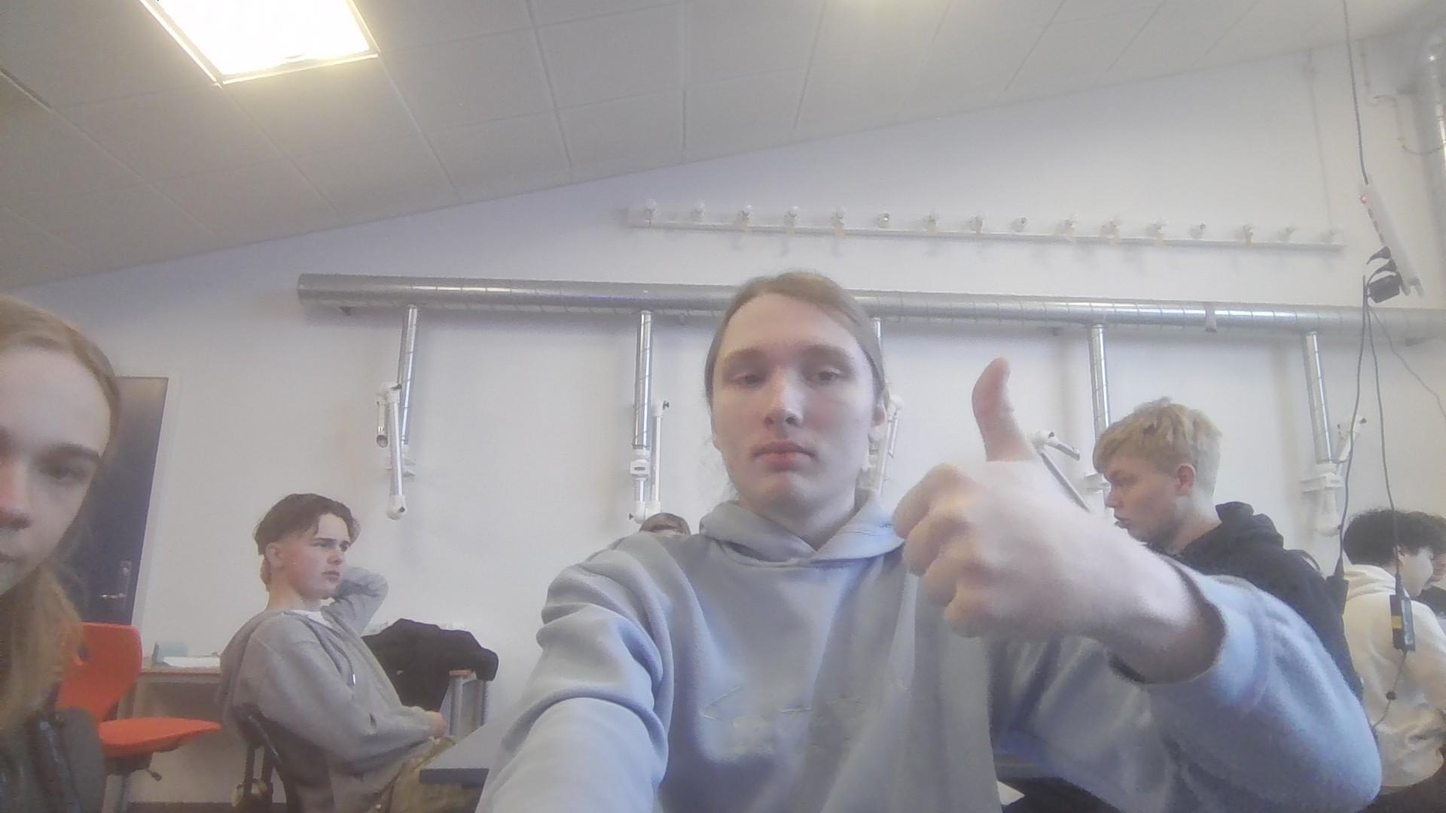thumbs up: (894, 351, 1112, 660)
